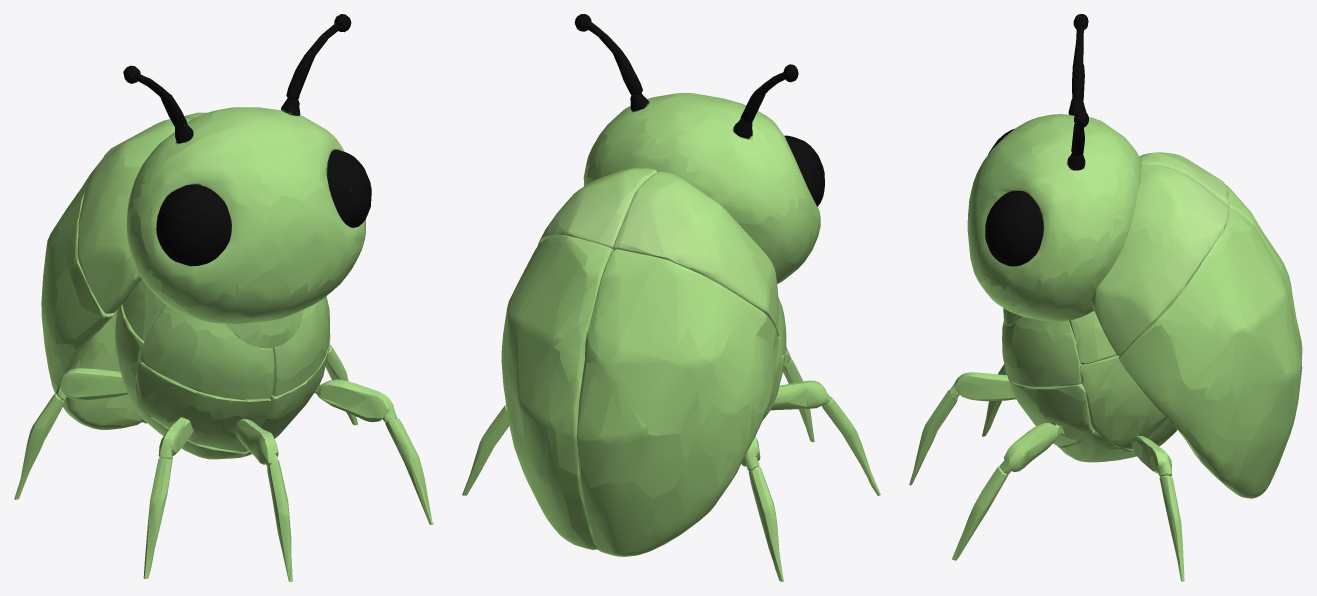
The model's file is skill-node.glb.
3 views of the same model, side by side, from view 1: azimuth 30°, elevation 25°; view 2: azimuth 150°, elevation 25°; view 3: azimuth 270°, elevation 25° (orthographic). The views are drawn at different scales.
Bounding box in the file's own units: 1.43 × 1.9 × 1.54.
1 material, 1 textured.
